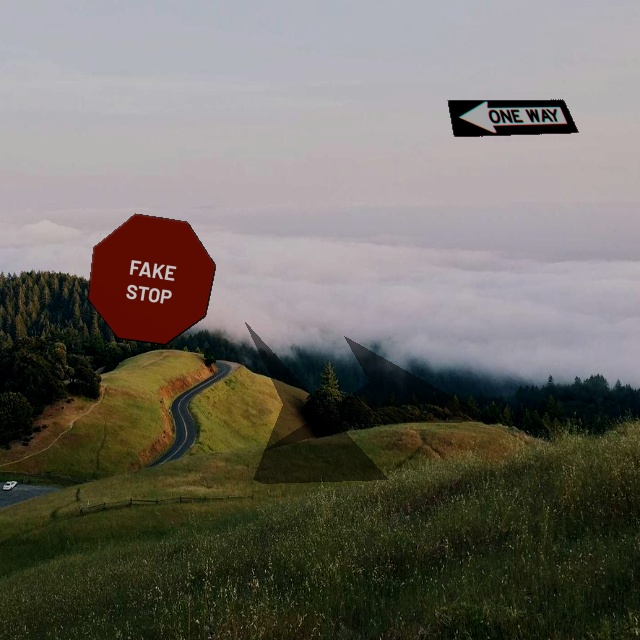FAKE_STOP: (87, 213, 216, 345)
ONE_WAY_ left: (447, 99, 579, 137)
